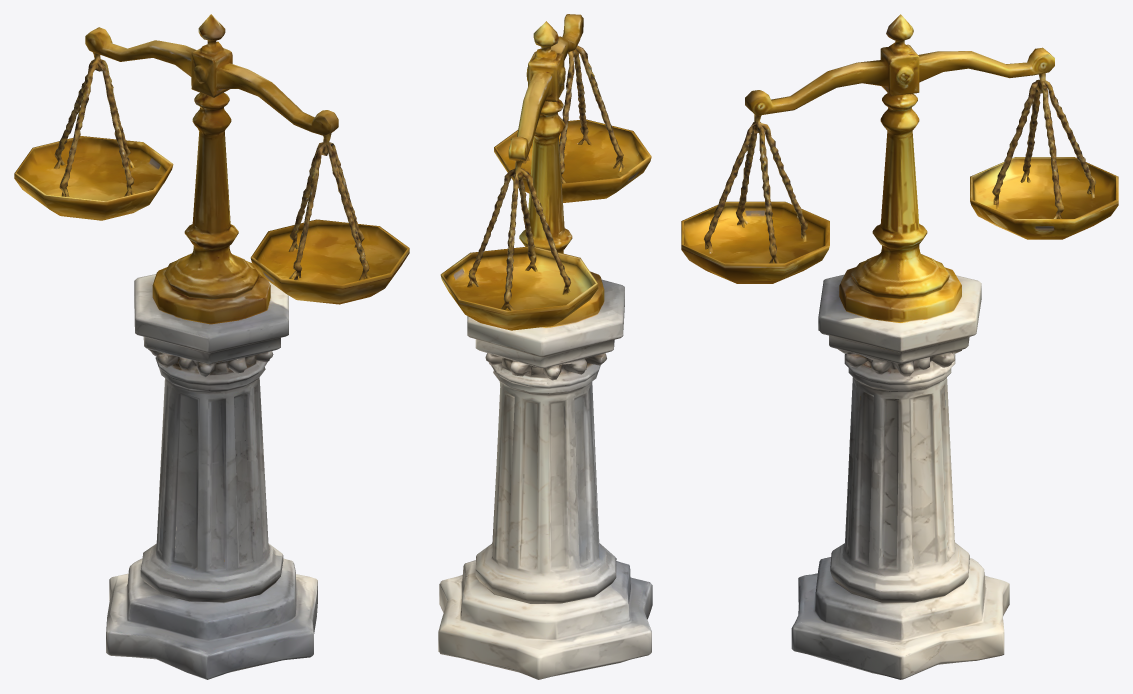
3 views of the same model, side by side, from view 1: azimuth 30°, elevation 25°; view 2: azimuth 150°, elevation 25°; view 3: azimuth 270°, elevation 25° (orthographic).
Parts seen in each view (by area): view 1: tripo_node_19524d42-f240-4146-ab43-713182cb8ad6; view 2: tripo_node_19524d42-f240-4146-ab43-713182cb8ad6; view 3: tripo_node_19524d42-f240-4146-ab43-713182cb8ad6.
Boxes of the visible parts, x1,y1,x2,y2 form: tripo_node_19524d42-f240-4146-ab43-713182cb8ad6: [14, 14, 409, 679]; tripo_node_19524d42-f240-4146-ab43-713182cb8ad6: [438, 14, 652, 679]; tripo_node_19524d42-f240-4146-ab43-713182cb8ad6: [681, 14, 1118, 679].
Bounding box in the file's own units: 0.3738 × 1 × 0.6438.
Materials: 1 (1 with a texture image).
